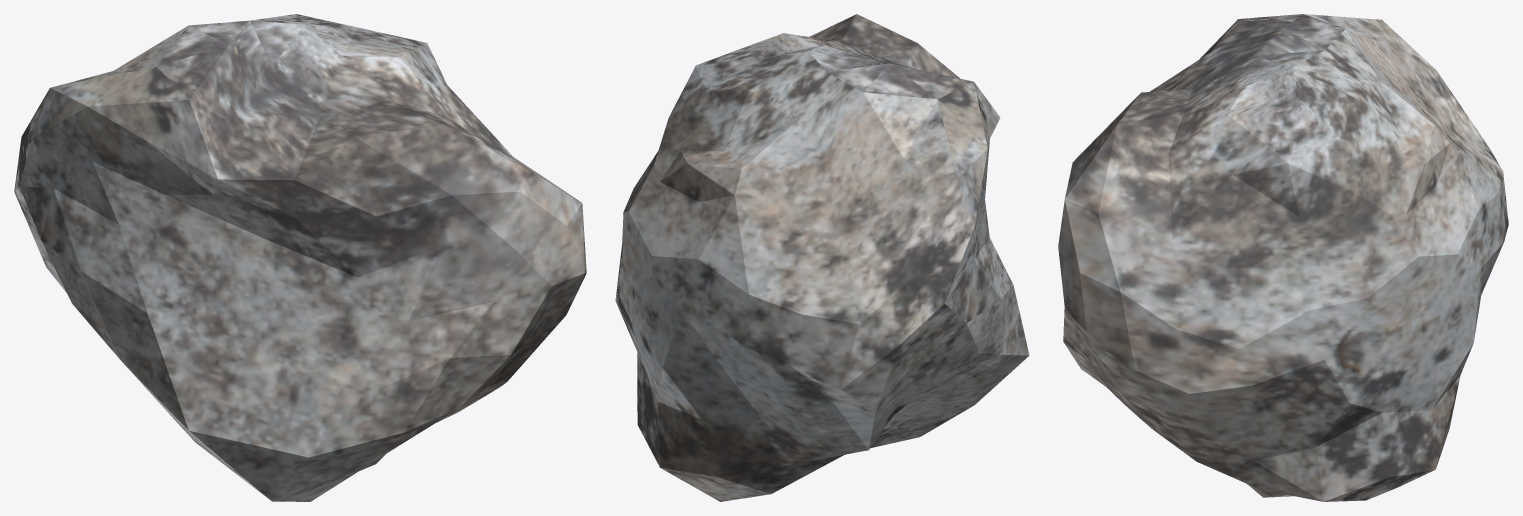
Rendered from Asteroid_Medium_002.fbx.
The picture shows the model from 3 angles, left to right: view 1: azimuth 30°, elevation 25°; view 2: azimuth 150°, elevation 25°; view 3: azimuth 270°, elevation 25°; orthographic projection. The views are drawn at different scales.
Parts seen in each view (by area): view 1: Asteroid_Medium_002; view 2: Asteroid_Medium_002; view 3: Asteroid_Medium_002.
Part boxes in pixels (x1=…): Asteroid_Medium_002: x1=14, y1=14, x2=586, y2=501; Asteroid_Medium_002: x1=615, y1=14, x2=1029, y2=501; Asteroid_Medium_002: x1=1058, y1=14, x2=1508, y2=501.
Size of the model in its own units: 18.14 by 18 by 17.99.
Materials: 1 (1 with a texture image).
